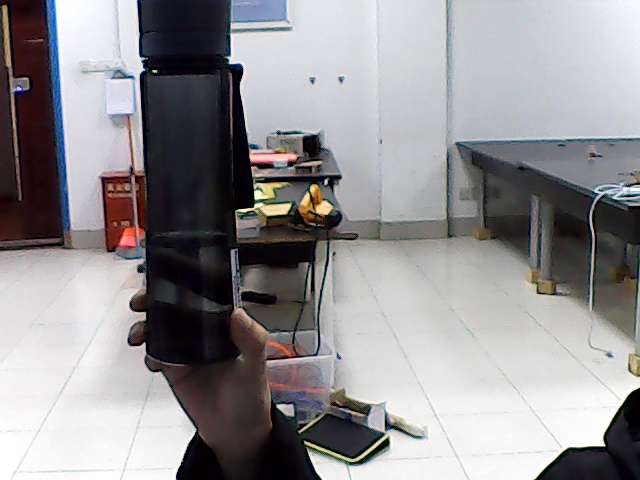cup: (143, 11, 233, 360)
